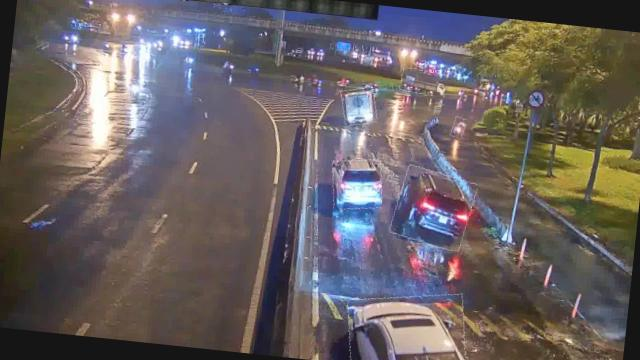Bike: (128, 80, 142, 104), (451, 116, 466, 138)
Bus: (340, 86, 380, 128)
Car: (343, 286, 469, 360), (391, 166, 476, 250), (330, 156, 386, 212)
Truck: (400, 68, 448, 98)
